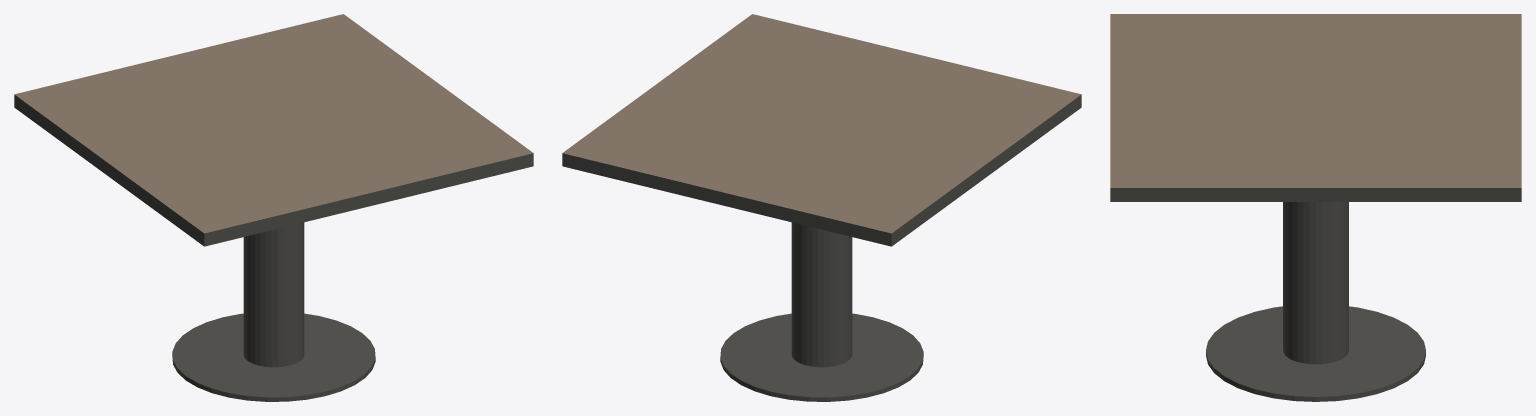
Rendered from MESA 1.fbx.
3 views of the same model, side by side, from view 1: azimuth 30°, elevation 25°; view 2: azimuth 150°, elevation 25°; view 3: azimuth 270°, elevation 25° (orthographic). The views are drawn at different scales.
Visible parts, largest first — view 1: Bar Table; view 2: Bar Table; view 3: Bar Table.
Boxes of the visible parts, left/top/right/bottom form: Bar Table: left=14, top=14, right=533, bottom=401; Bar Table: left=562, top=14, right=1081, bottom=401; Bar Table: left=1110, top=14, right=1521, bottom=401.
Bounding box in the file's own units: 121 × 82.86 × 121.
